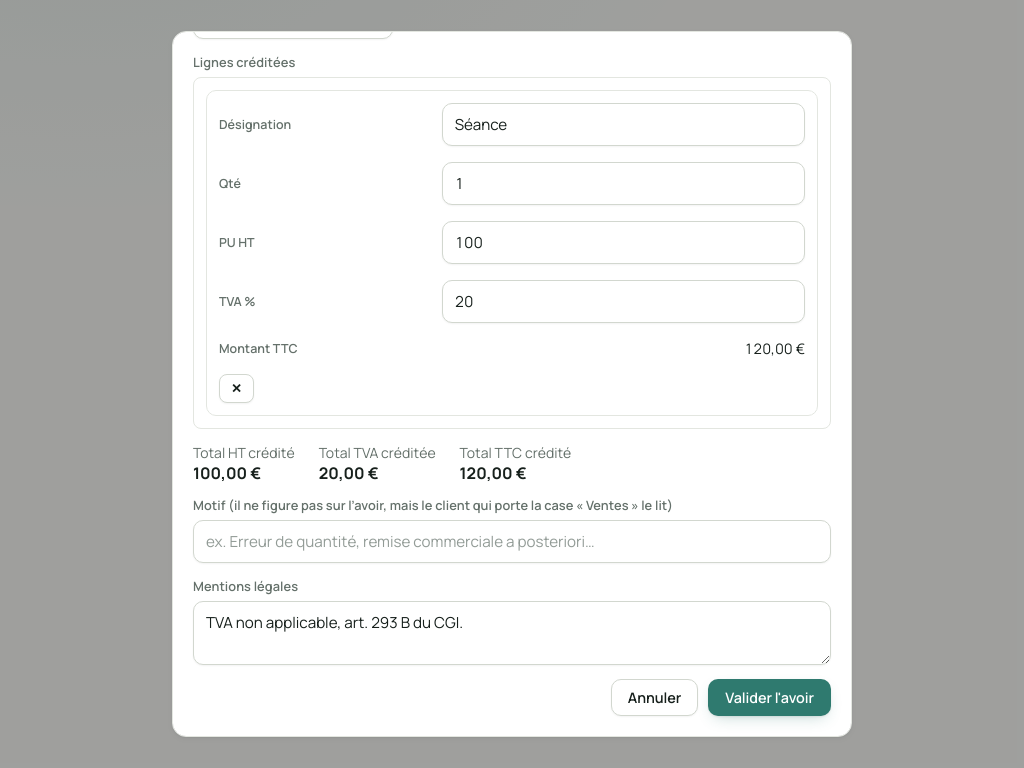
sa facture figée en franchise : la mention du 293 B effacée se refuse
The image size is (1024, 768).
(page scrolled)
Expected: the field showing "Séance" is shown, [442, 103, 805, 146]
Expected: the button "Valider l'avoir" is enabled, [708, 679, 831, 716]
Replace the text in the text box labelled "Mentions légales" with "Avoir sur facture." at x=512, y=633, box [193, 601, 831, 665]
(page scrolled)
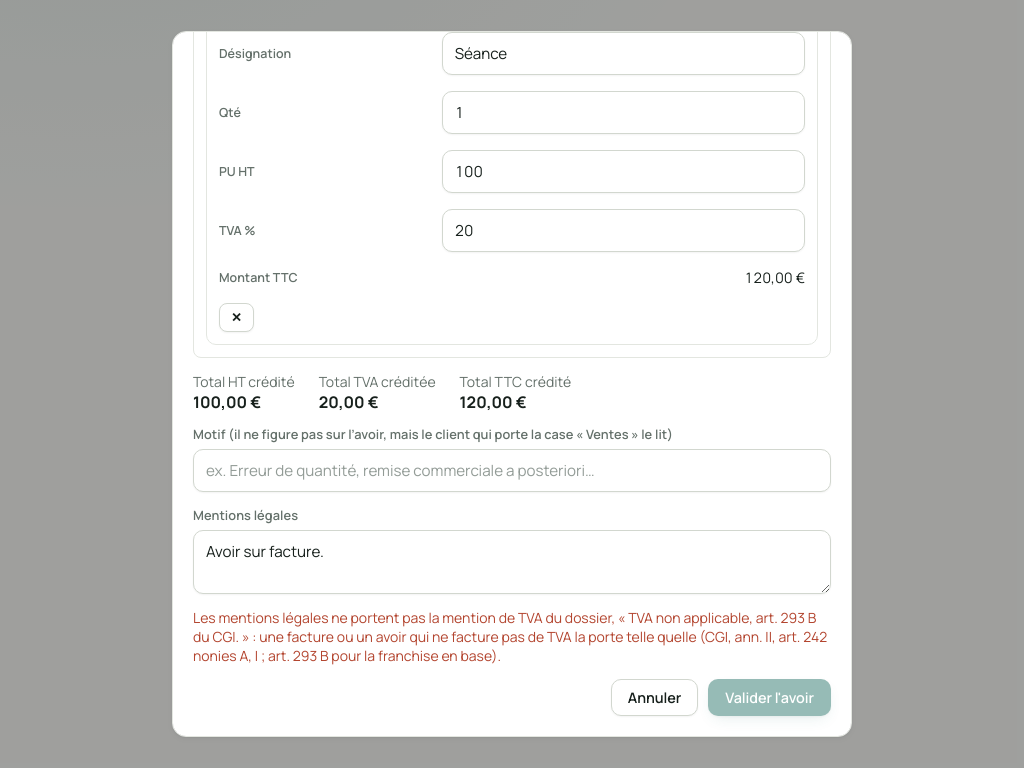
Now the button "Valider l'avoir" is disabled, box [708, 679, 831, 716]
